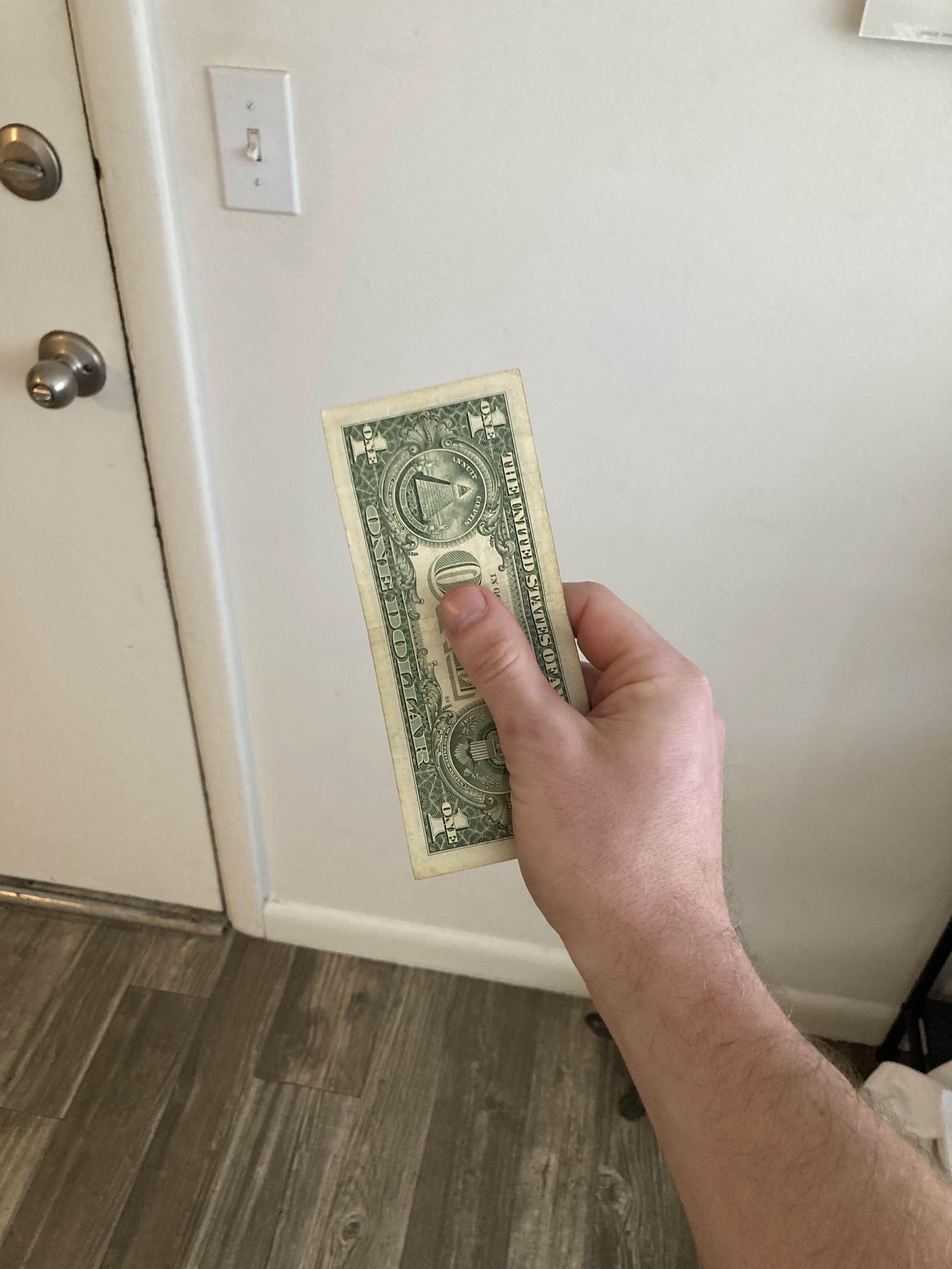one-back: (322, 367, 609, 880)
